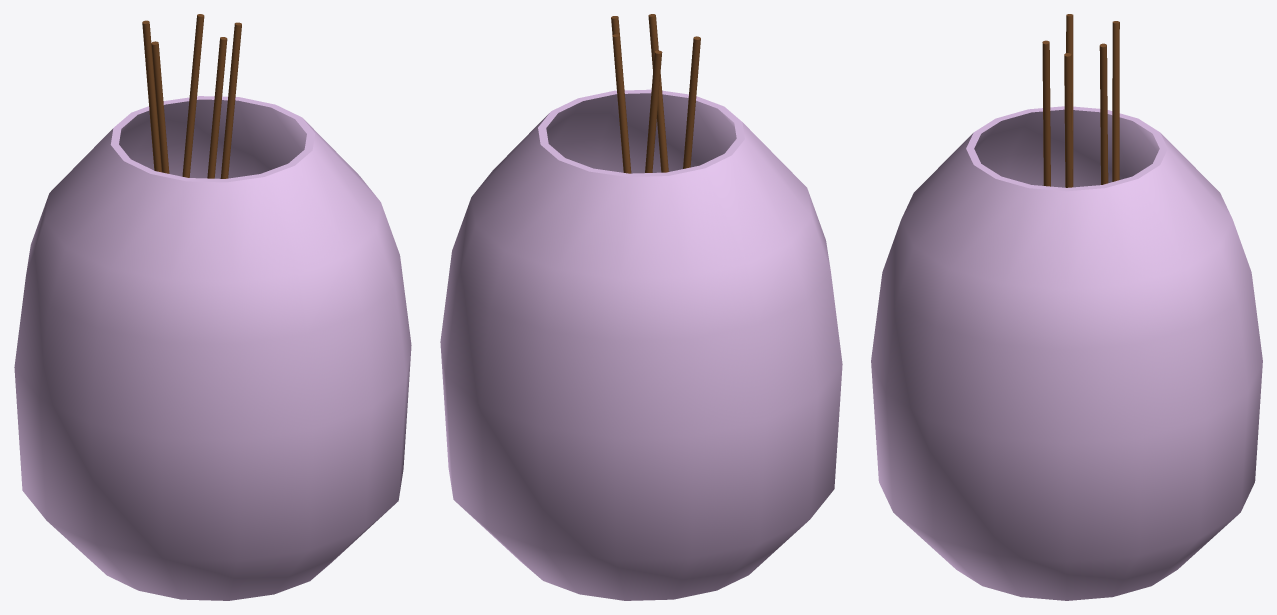
Rendered from Diffuser.fbx.
3 views of the same model, side by side, from view 1: azimuth 30°, elevation 25°; view 2: azimuth 150°, elevation 25°; view 3: azimuth 270°, elevation 25° (orthographic). The views are drawn at different scales.
Parts seen in each view (by area): view 1: Body, Sticks; view 2: Body, Sticks; view 3: Body, Sticks.
Boxes of the visible parts, box(x1,y1,x2,y2) form: Body: box(14, 96, 411, 600); Sticks: box(142, 14, 241, 178); Body: box(440, 89, 842, 600); Sticks: box(611, 14, 700, 173); Body: box(871, 106, 1262, 600); Sticks: box(1042, 14, 1119, 187).
Size of the model in its own units: 4.3 by 6.15 by 4.3.
Materials: 2 (2 with a texture image).
